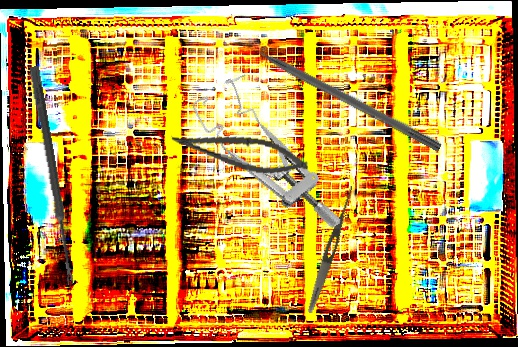Dressing Forceps: (304, 184, 357, 315)
Micro Scissor: (167, 126, 311, 180)
Pusher: (232, 32, 444, 153)
Speculum: (188, 64, 344, 259)
Surgical Spoon: (27, 65, 78, 286)
